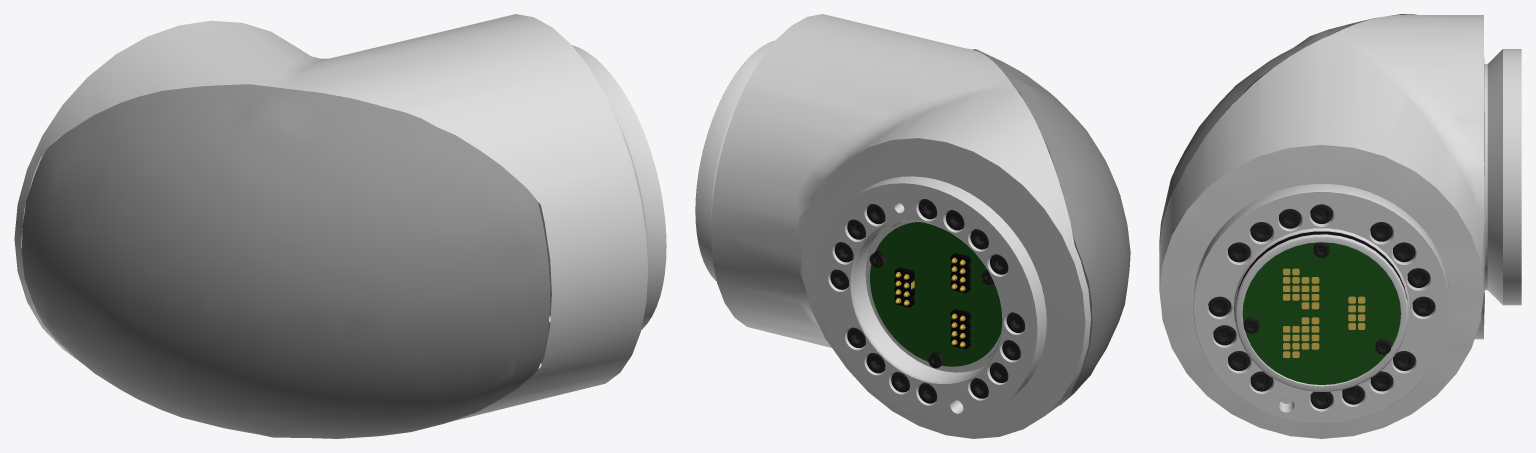
3 renders of one model, left to right at view 1: azimuth 30°, elevation 25°; view 2: azimuth 150°, elevation 25°; view 3: azimuth 270°, elevation 25°, orthographic. The views are drawn at different scales.
Parts seen in each view (by area): view 1: L86-82.001; view 2: L86-82.001; view 3: L86-82.001.
Part boxes in pixels (left/top/right/bottom): L86-82.001: left=14, top=14, right=666, bottom=438; L86-82.001: left=695, top=14, right=1130, bottom=438; L86-82.001: left=1159, top=14, right=1521, bottom=438.
Bounding box in the file's own units: 0.13 × 0.0868 × 0.0961.
